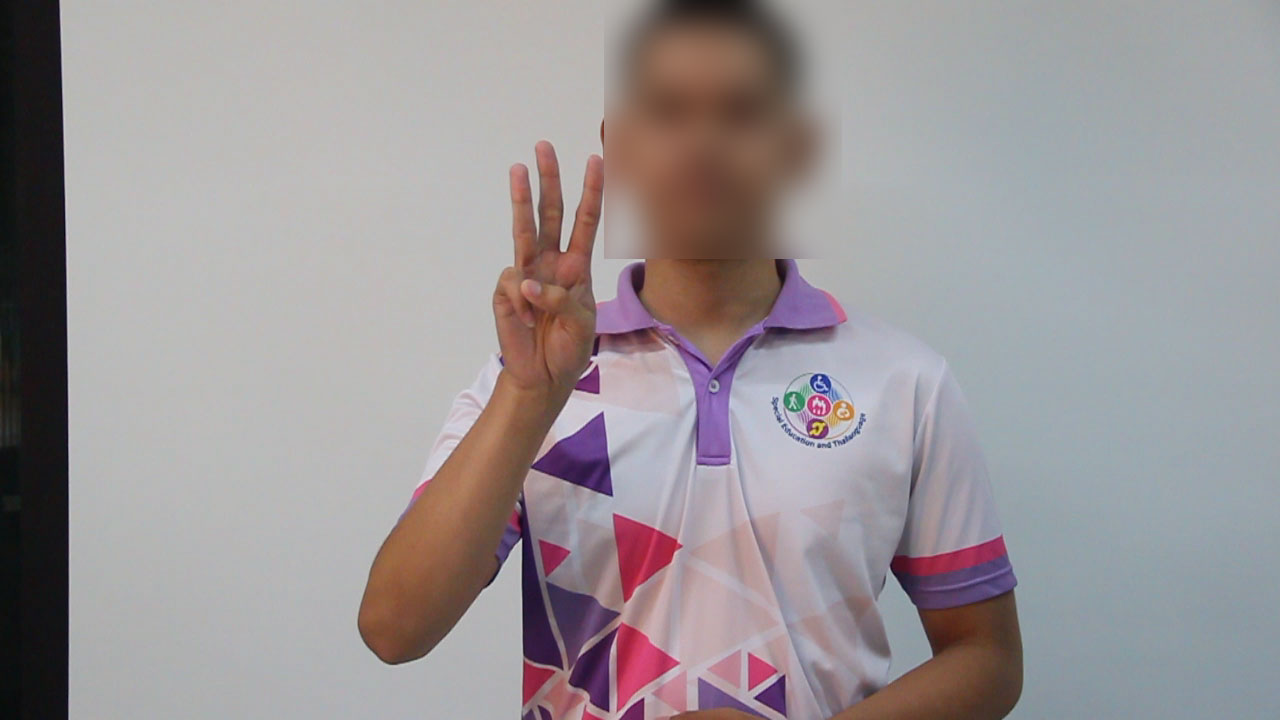wor: (479, 134, 609, 400)
